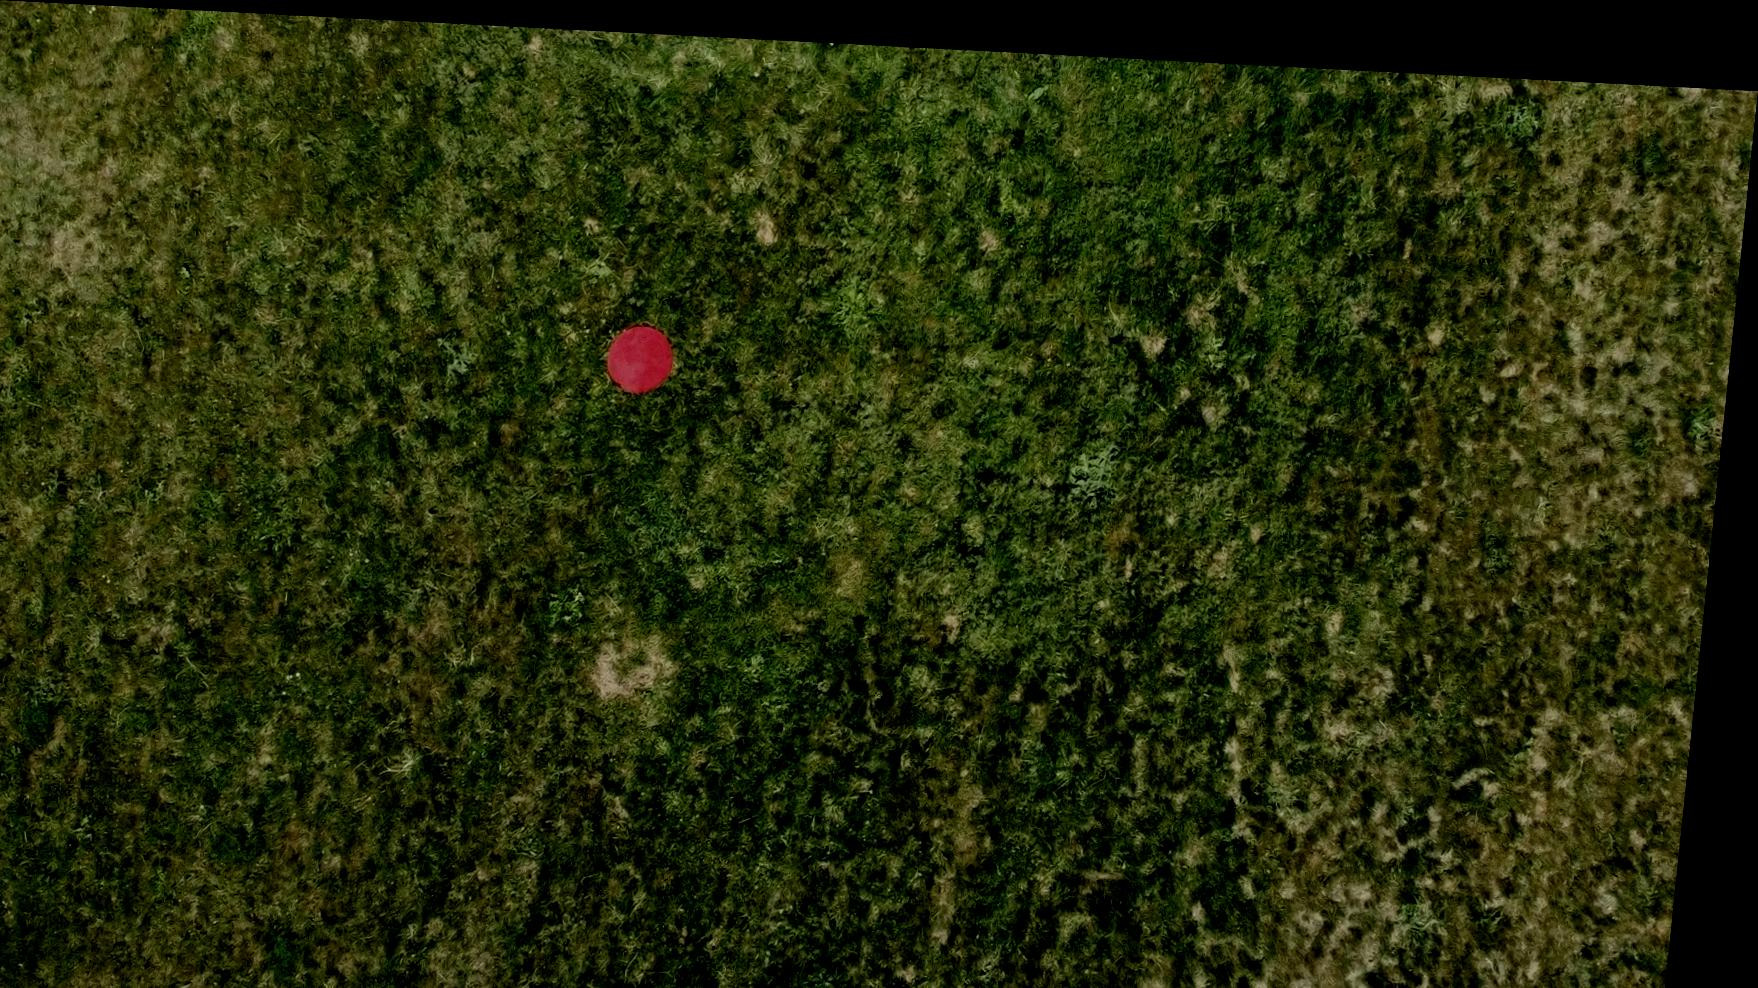Red: (609, 314, 685, 389)
